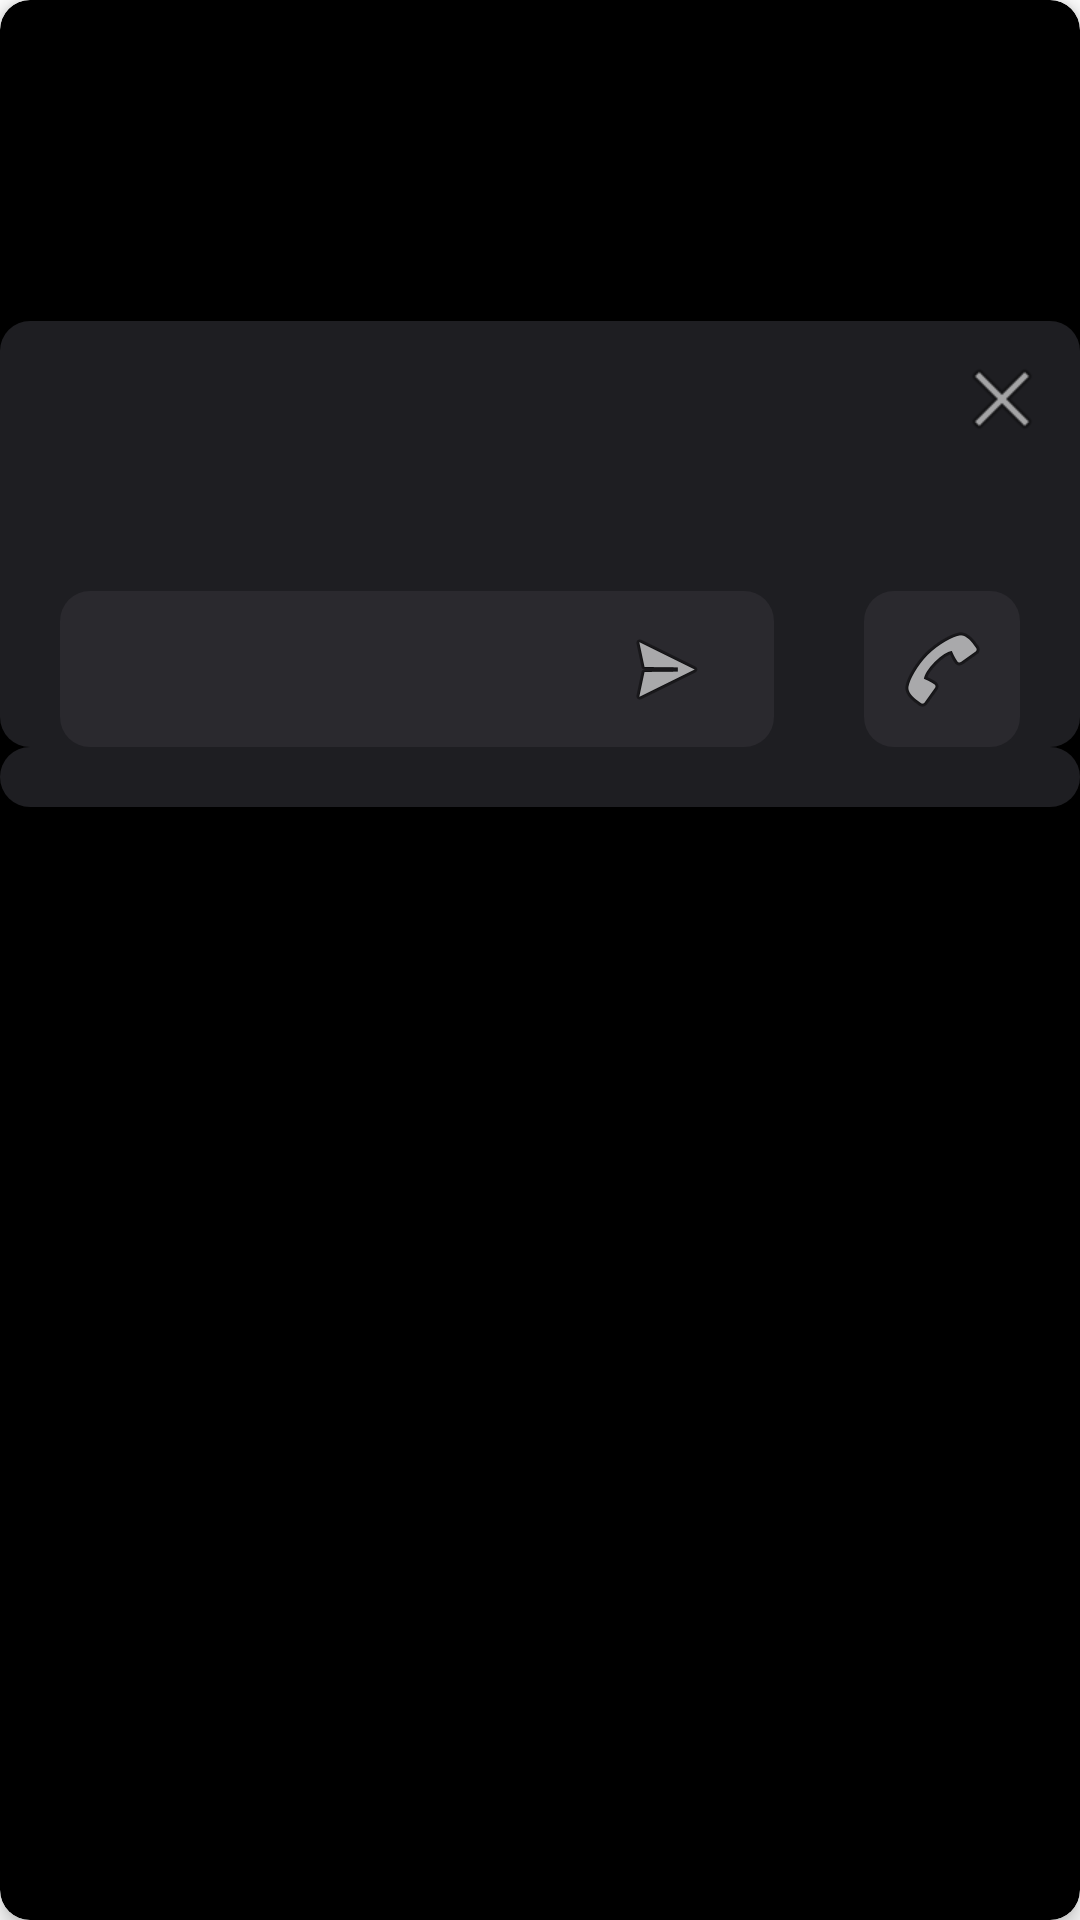

Icon click points for this 1080×1920 phone screenshot, format point (x, y):
call: point (942, 669)
close clear cancel: point (1002, 399)
